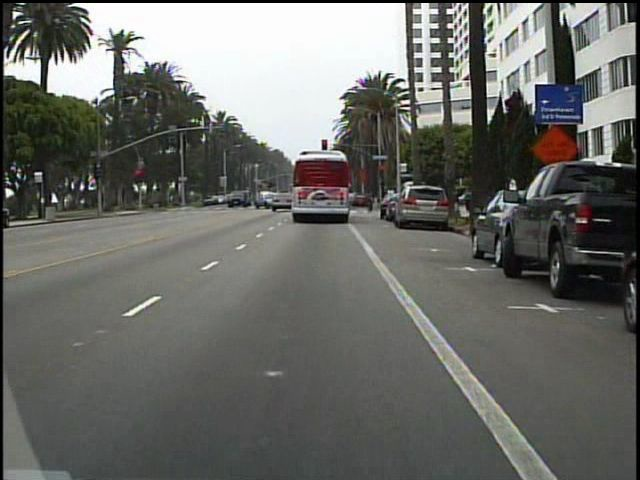person: (459, 185, 474, 219)
